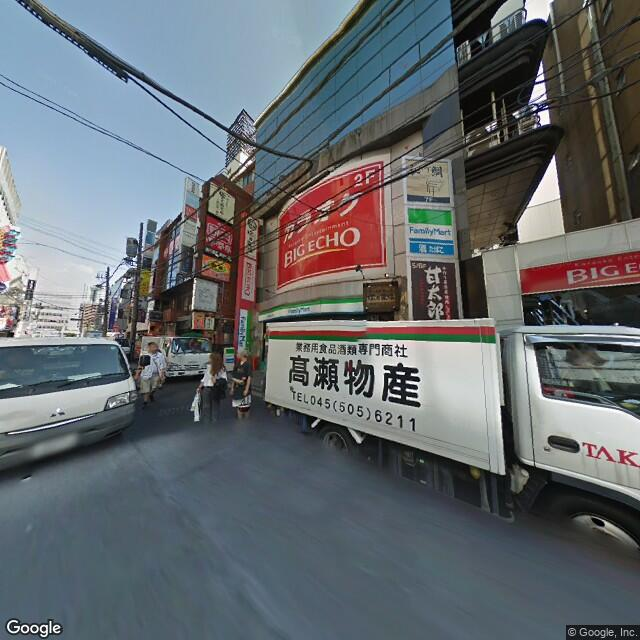family_mart: (259, 294, 364, 325), (406, 208, 453, 257), (239, 308, 250, 353)
